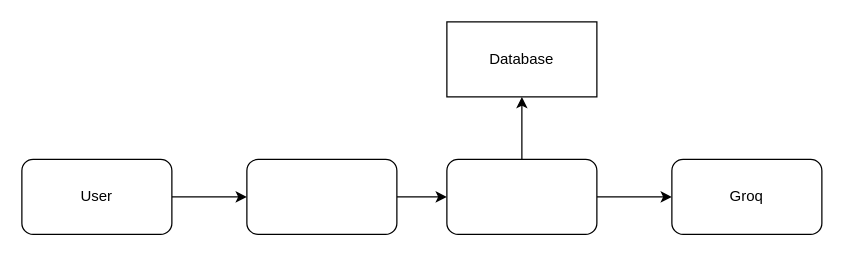
Some shapes in this 844 by 256 pixel diagram are drawn without their labels. Here are the shapes that lost their labels. From the top down, the box of each, then its label:
(246, 158, 397, 234): Frontend
(446, 158, 597, 234): backend
